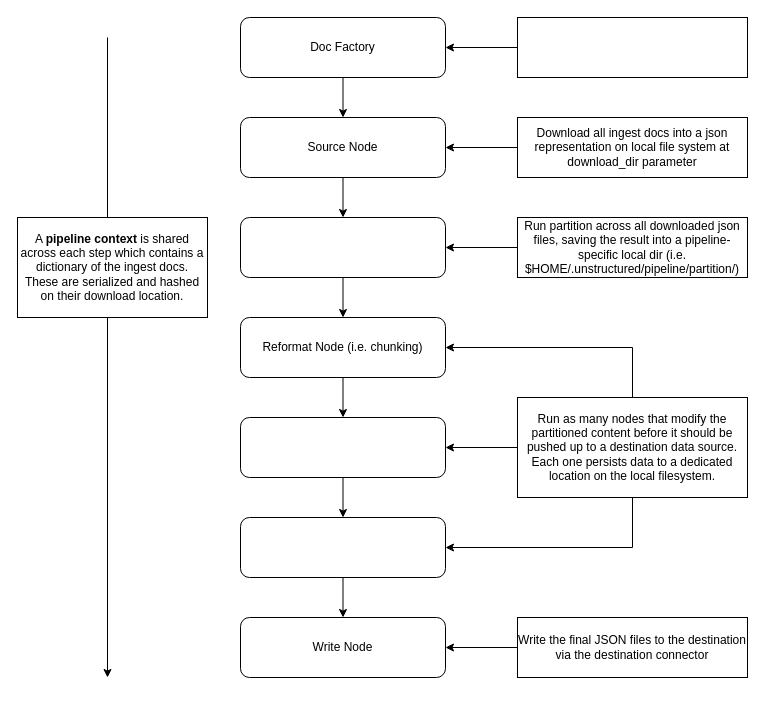
Image size: 765x703. Some labels were removed from this diagram. Here are the shapes that lost their labels. From the top down, the box of each, then its label:
(516, 16, 748, 78): Via the source connector,create all ingest docs
(240, 216, 446, 278): Partition Node
(240, 416, 446, 478): Reformat Node (i.e. embedding)
(240, 516, 446, 578): Reformat Node(s)
